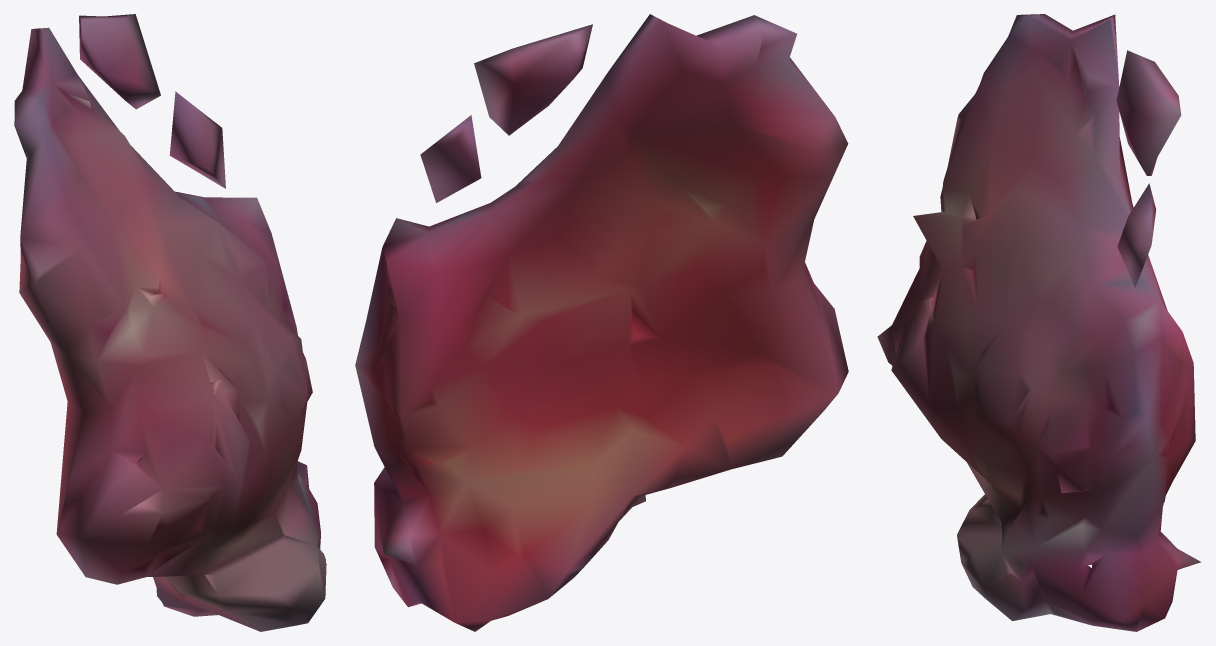
Rendered from nota_do.glb.
The picture shows the model from 3 angles, left to right: view 1: azimuth 30°, elevation 25°; view 2: azimuth 150°, elevation 25°; view 3: azimuth 270°, elevation 25°; orthographic projection. The views are drawn at different scales.
Size of the model in its own units: 0.6094 by 1 by 0.5483.
